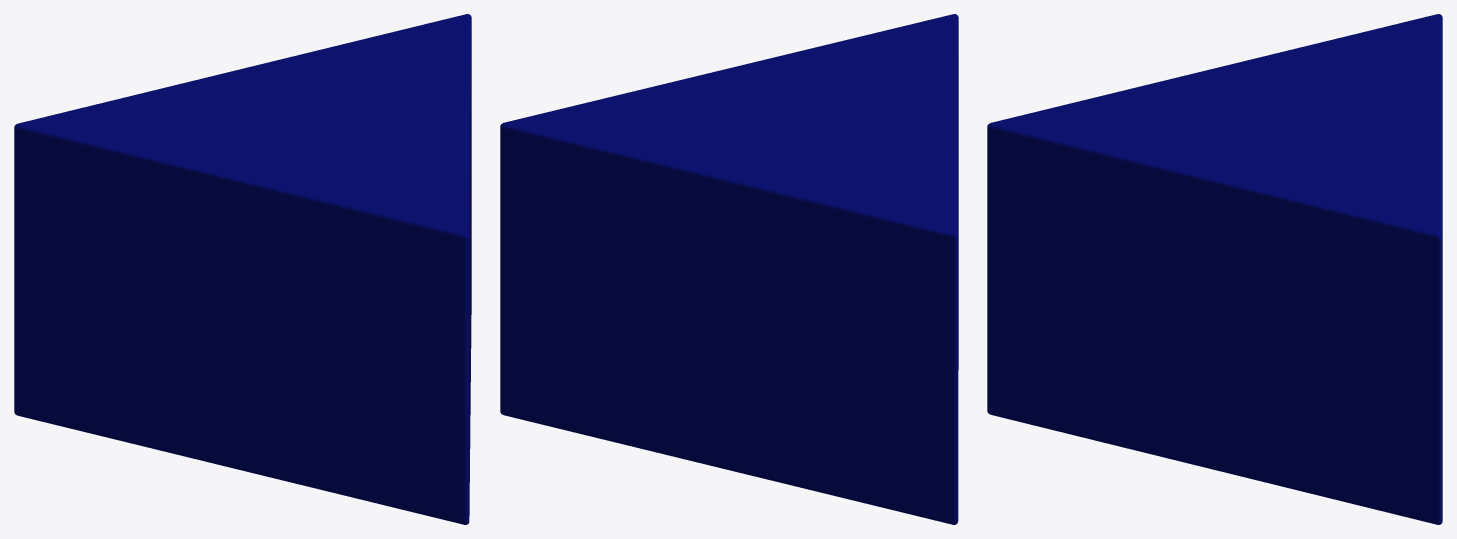
The model's file is Prism.fbx.
3 views of the same model, side by side, from view 1: azimuth 30°, elevation 25°; view 2: azimuth 150°, elevation 25°; view 3: azimuth 270°, elevation 25° (orthographic).
Visible parts, largest first — view 1: node_id30; view 2: node_id30; view 3: node_id30.
Part boxes in pixels (x1=…): node_id30: x1=14, y1=14, x2=471, y2=524; node_id30: x1=500, y1=14, x2=958, y2=524; node_id30: x1=987, y1=14, x2=1442, y2=524.
Bounding box in the file's own units: 0.512 × 0.3132 × 0.4426.
Materials: 1 (1 with a texture image).
